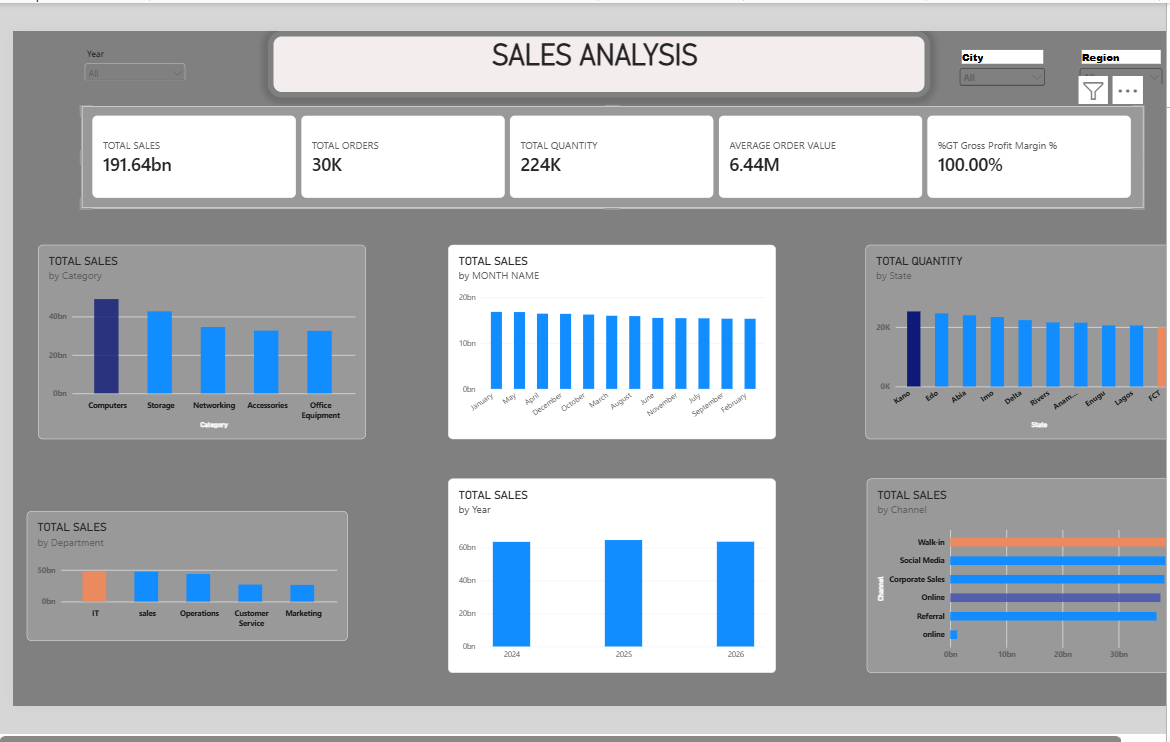

This screenshot's page, from the dashboard's own definition file:
{"tool":"powerbi","page":{"name":"EXECUTIVE DASHBOARD ","canvas":[1920,1080],"ordinal":0},"visuals":[{"type":"cardVisual","fields":{"Data":["DATE.Total sale","DATE.TOTAL COST","DATE.TOTAL QUANTITY","DATE.AVERAGE ORDER VALUE","DATE.Gross Profit Margin %"]},"box":[109.1,119.4,1700.2,164.7],"z":0},{"type":"textbox","box":[408,0,1059,106],"z":1000},{"type":"slicer","fields":{"Values":["Dim_Customers.City"]},"box":[1510.8,30.9,146.1,59.7],"z":2000},{"type":"slicer","fields":{"Values":["Dim_Customers.Region"]},"box":[1702.2,30.9,142,55.6],"z":3000},{"type":"slicer","fields":{"Values":["Dim_Date.Year"]},"box":[109.1,28.8,170.8,51.5],"z":4000},{"type":"clusteredColumnChart","fields":{"Category":["Dim_Products.Category"],"Y":["DATE.TOTAL SALES"]},"box":[39.1,341.7,524.9,310.8],"z":5000},{"type":"clusteredColumnChart","fields":{"Category":["Dim_Customers.State"],"Y":["DATE.TOTAL QUANTITY"]},"box":[1364.7,341.7,524.9,310.8],"z":6000},{"type":"columnChart","fields":{"Category":["DATE.MONTH NAME"],"Y":["DATE.TOTAL SALES"]},"box":[695.7,341.7,524.9,310.8],"z":7000},{"type":"columnChart","fields":{"Category":["Dim_Employees.Department"],"Y":["DATE.TOTAL SALES"]},"box":[39.1,716.3,525,311],"z":8000},{"type":"columnChart","fields":{"Category":["DATE.Year"],"Y":["DATE.TOTAL SALES"]},"box":[696,716,525,311],"z":9000},{"type":"clusteredBarChart","fields":{"Category":["Fact_Sales.Channel"],"Y":["DATE.TOTAL SALES"]},"box":[1365,716,525,311],"z":10000}]}

Visuals, with their boxes on the page's 1920x1080 design canvas (x1, y1, x2, y2). These are canvas units, not pixel positions in the 1170x742 screenshot, which may show the page scaled, cropped or inside an application window:
cardVisual - DATE.Total sale x DATE.TOTAL COST: <box>109,119,1809,284</box>
textbox: <box>408,0,1467,106</box>
slicer - Dim_Customers.City: <box>1511,31,1657,91</box>
slicer - Dim_Customers.Region: <box>1702,31,1844,86</box>
slicer - Dim_Date.Year: <box>109,29,280,80</box>
clusteredColumnChart - Dim_Products.Category x DATE.TOTAL SALES: <box>39,342,564,652</box>
clusteredColumnChart - Dim_Customers.State x DATE.TOTAL QUANTITY: <box>1365,342,1890,652</box>
columnChart - DATE.MONTH NAME x DATE.TOTAL SALES: <box>696,342,1221,652</box>
columnChart - Dim_Employees.Department x DATE.TOTAL SALES: <box>39,716,564,1027</box>
columnChart - DATE.Year x DATE.TOTAL SALES: <box>696,716,1221,1027</box>
clusteredBarChart - Fact_Sales.Channel x DATE.TOTAL SALES: <box>1365,716,1890,1027</box>
